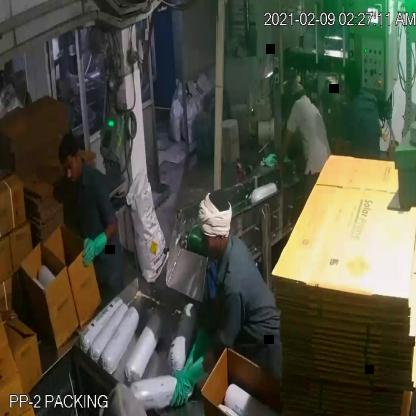glove: (78, 224, 122, 268), (168, 358, 209, 404)
no_glove: (273, 121, 295, 184)
